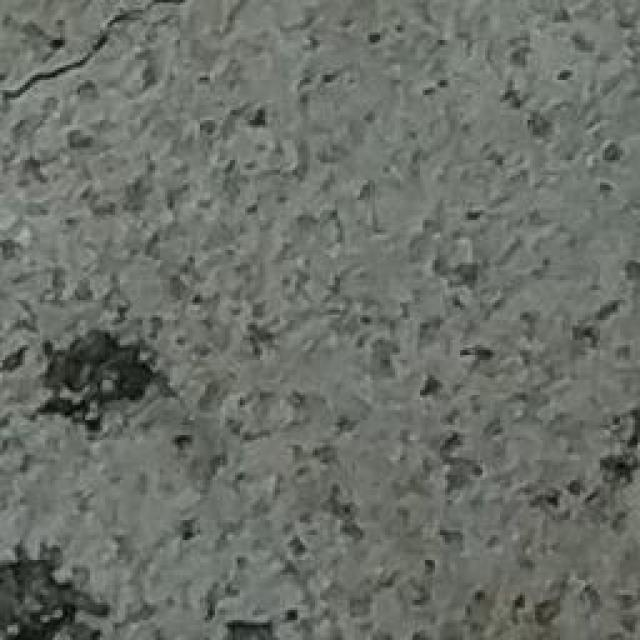Annular: (25, 318, 179, 434), (3, 542, 102, 640)
Diagonal: (0, 0, 185, 120)
